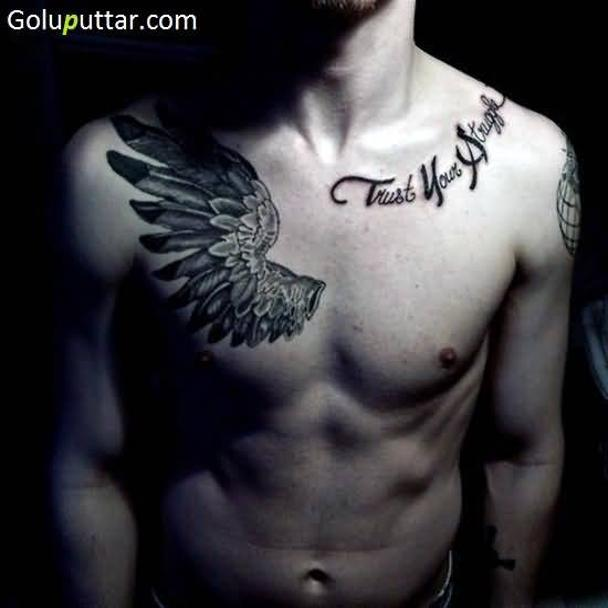tattoos: (105, 99, 326, 350), (329, 83, 508, 212), (555, 131, 581, 259), (483, 523, 516, 579)
